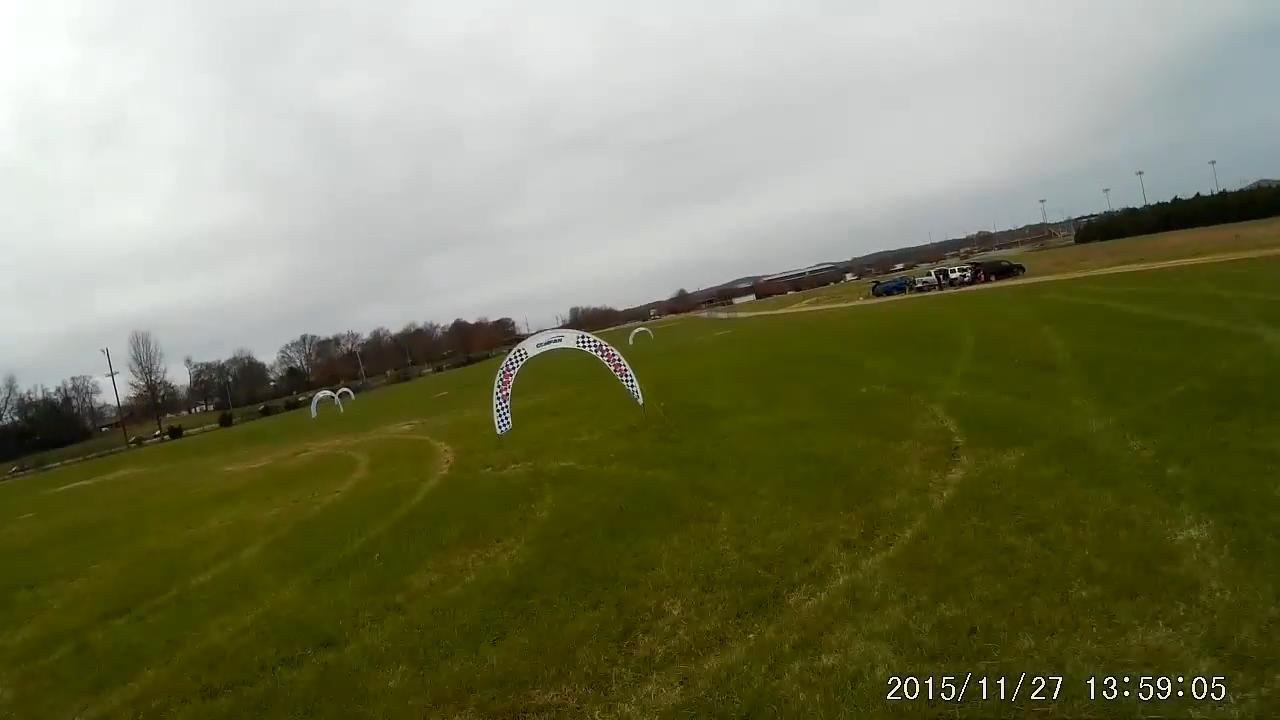gate: (490, 329, 648, 442)
